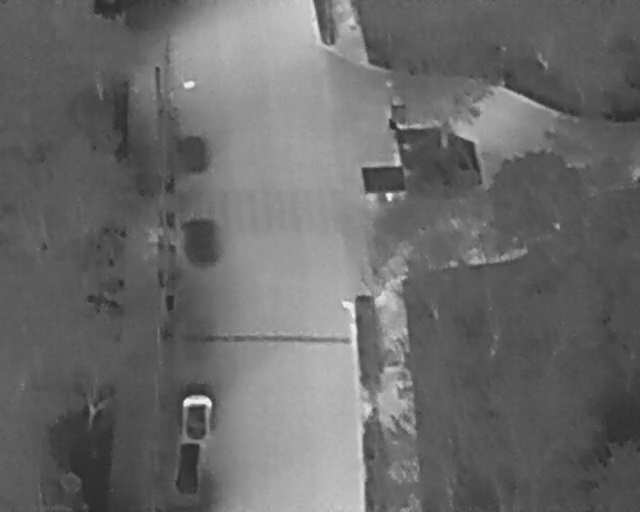Car: (173, 440, 204, 496), (178, 392, 212, 443)
